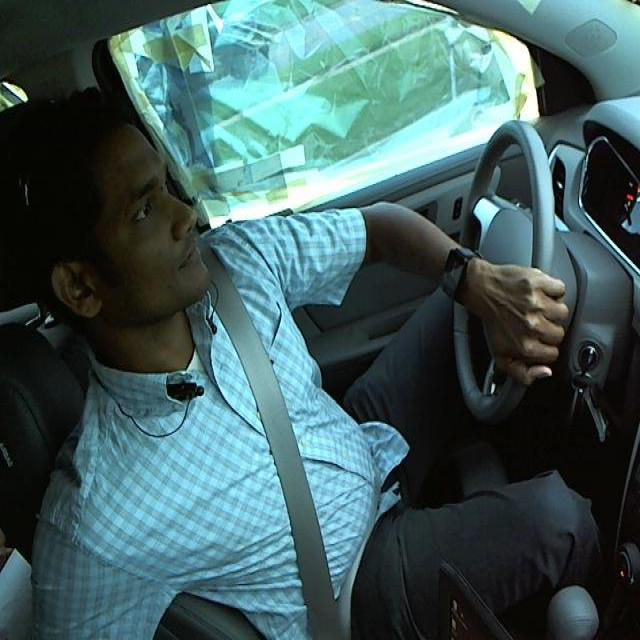seatbelt: (215, 280, 346, 637)
